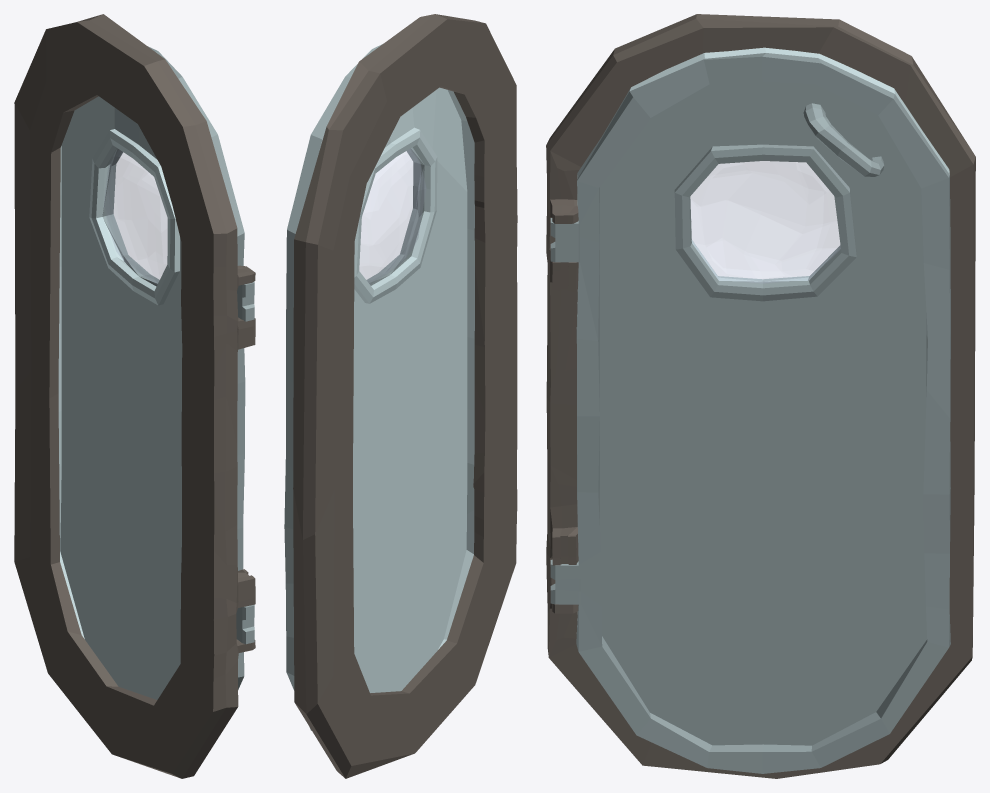
Rendered from Door_Framed.fbx.
The picture shows the model from 3 angles, left to right: view 1: azimuth 30°, elevation 25°; view 2: azimuth 150°, elevation 25°; view 3: azimuth 270°, elevation 25°; orthographic projection. The views are drawn at different scales.
Parts seen in each view (by area): view 1: Doorframe, Door; view 2: Doorframe, Door; view 3: Door, Doorframe.
Part boxes in pixels (left/top/right/bottom): Doorframe: left=14, top=14, right=255, bottom=778; Door: left=58, top=46, right=254, bottom=699; Doorframe: left=293, top=14, right=517, bottom=778; Door: left=284, top=44, right=474, bottom=730; Door: left=550, top=47, right=950, bottom=773; Doorframe: left=546, top=14, right=975, bottom=778.
Bounding box in the file's own units: 110 × 18.77 × 213.
